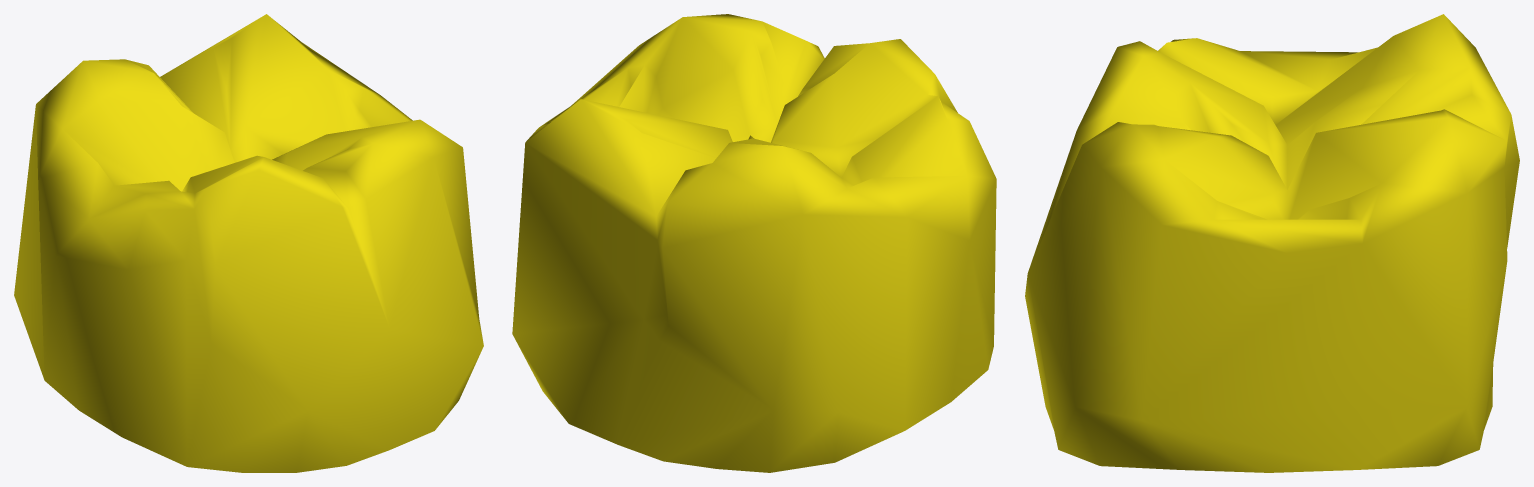
File: D46N_NUC.obj
3 views of the same model, side by side, from view 1: azimuth 30°, elevation 25°; view 2: azimuth 150°, elevation 25°; view 3: azimuth 270°, elevation 25° (orthographic). The views are drawn at different scales.
Parts seen in each view (by area): view 1: D46N_NUC; view 2: D46N_NUC; view 3: D46N_NUC.
Part boxes in pixels (x1=…): D46N_NUC: x1=14, y1=14, x2=483, y2=472; D46N_NUC: x1=512, y1=14, x2=996, y2=472; D46N_NUC: x1=1025, y1=14, x2=1519, y2=472.
Bounding box in the file's own units: 6.83 × 5.32 × 6.97.
